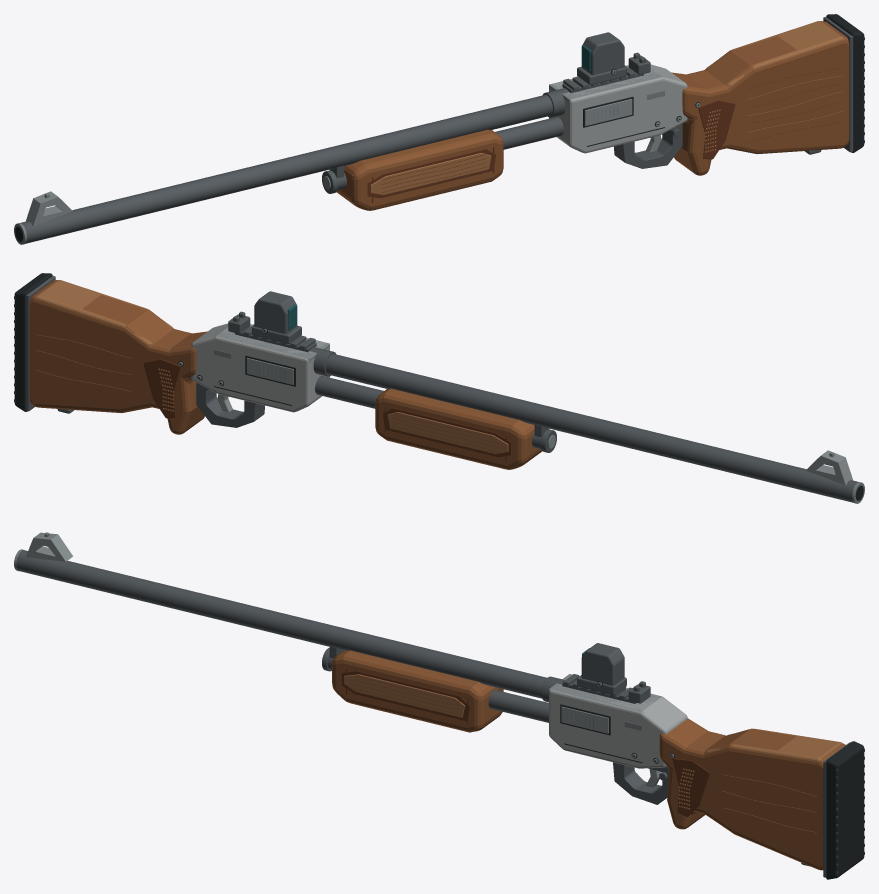
3 renders of one model, top to bottom at view 1: azimuth 30°, elevation 25°; view 2: azimuth 150°, elevation 25°; view 3: azimuth 330°, elevation 25°, orthographic.
Visible parts, largest first — view 1: part_stock_surfaces, part_barrel_surfaces, part_receiver_surfaces, part_pump_surfaces, part_optic_surfaces, part_front_sight_surfaces, part_rear_sight_surfaces; view 2: part_stock_surfaces, part_barrel_surfaces, part_receiver_surfaces, part_pump_surfaces, part_optic_surfaces, part_front_sight_surfaces, part_rear_sight_surfaces; view 3: part_stock_surfaces, part_barrel_surfaces, part_receiver_surfaces, part_pump_surfaces, part_optic_surfaces, part_front_sight_surfaces, part_rear_sight_surfaces.
Part boxes in pixels (x1,y1,x2,y2): part_stock_surfaces: (671,14,864,175); part_barrel_surfaces: (14,88,568,244); part_receiver_surfaces: (549,64,687,168); part_pump_surfaces: (336,129,503,210); part_optic_surfaces: (577,32,626,85); part_front_sight_surfaces: (26,191,72,226); part_rear_sight_surfaces: (562,52,650,93); part_stock_surfaces: (14,273,207,434); part_barrel_surfaces: (310,347,864,503); part_receiver_surfaces: (191,323,329,427); part_pump_surfaces: (375,388,542,469); part_optic_surfaces: (252,291,301,344); part_front_sight_surfaces: (806,450,852,485); part_rear_sight_surfaces: (228,311,316,352); part_stock_surfaces: (659,718,864,879); part_barrel_surfaces: (14,549,564,722); part_receiver_surfaces: (549,674,687,804); part_pump_surfaces: (332,650,503,732); part_optic_surfaces: (577,643,626,695); part_front_sight_surfaces: (26,532,73,561); part_rear_sight_surfaces: (562,674,650,703).
Size of the model in its own units: 330 by 61.9 by 19.2.
